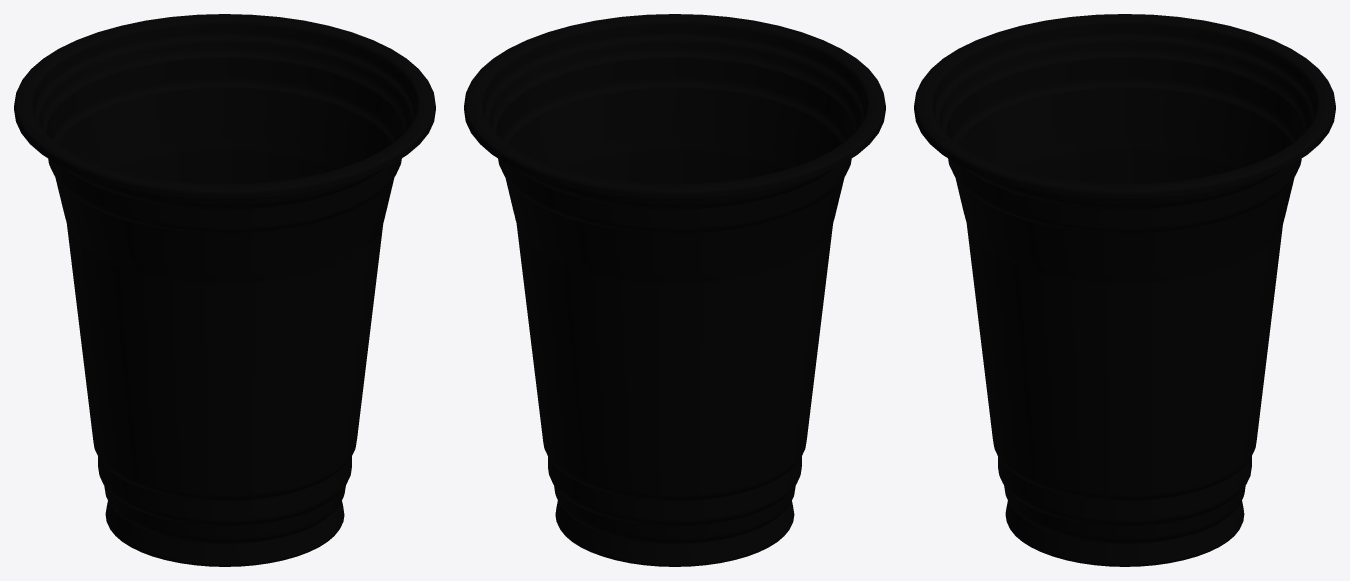
3 renders of one model, left to right at view 1: azimuth 30°, elevation 25°; view 2: azimuth 150°, elevation 25°; view 3: azimuth 270°, elevation 25°, orthographic.
Visible parts, largest first — view 1: models; view 2: models; view 3: models.
Boxes of the visible parts, left/top/right/bottom form: models: left=14, top=14, right=435, bottom=566; models: left=464, top=14, right=885, bottom=566; models: left=914, top=14, right=1335, bottom=566.
Size of the model in its own units: 0.092 by 0.1 by 0.092.
Materials: 1 (1 with a texture image).
